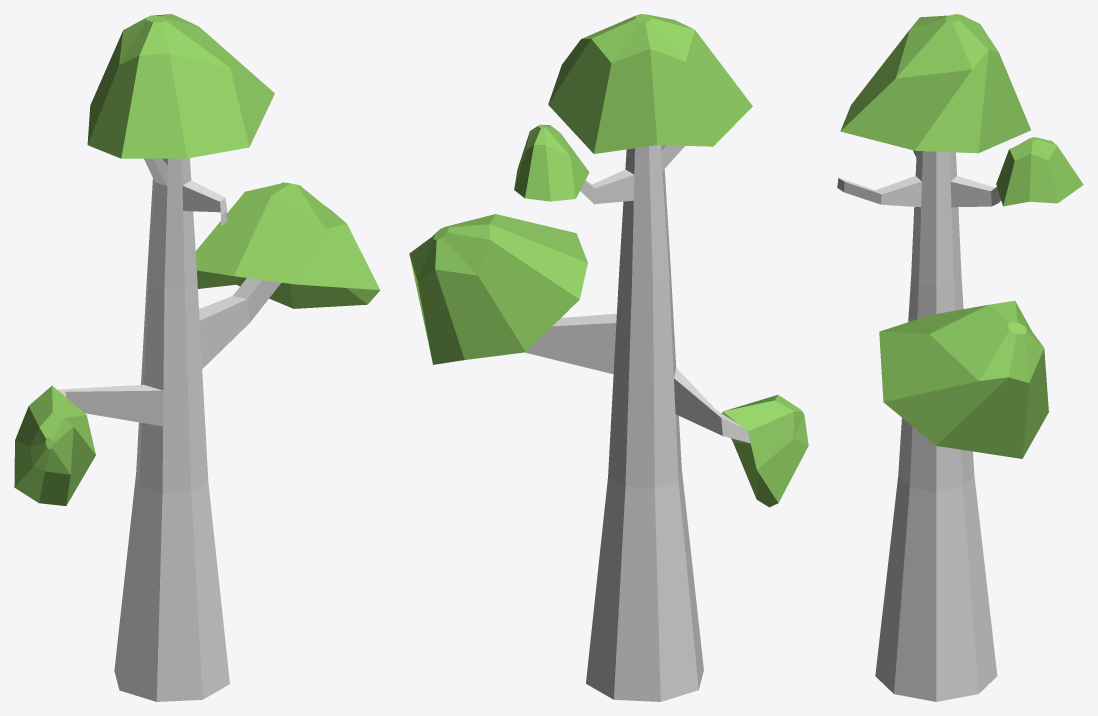
Rendered from Tree 1 .fbx.
The picture shows the model from 3 angles, left to right: view 1: azimuth 30°, elevation 25°; view 2: azimuth 150°, elevation 25°; view 3: azimuth 270°, elevation 25°; orthographic projection. The views are drawn at different scales.
Parts seen in each view (by area): view 1: Cube.001, Cube.005; view 2: Cube.005, Cube.001; view 3: Cube.005, Cube.001.
Boxes of the visible parts, x1,y1,x2,y2 form: Cube.001: [57, 158, 280, 701]; Cube.005: [14, 14, 380, 505]; Cube.005: [409, 14, 808, 507]; Cube.001: [525, 145, 750, 701]; Cube.005: [840, 14, 1083, 458]; Cube.001: [837, 150, 1001, 701].
Bounding box in the file's own units: 906 × 1635 × 558.
